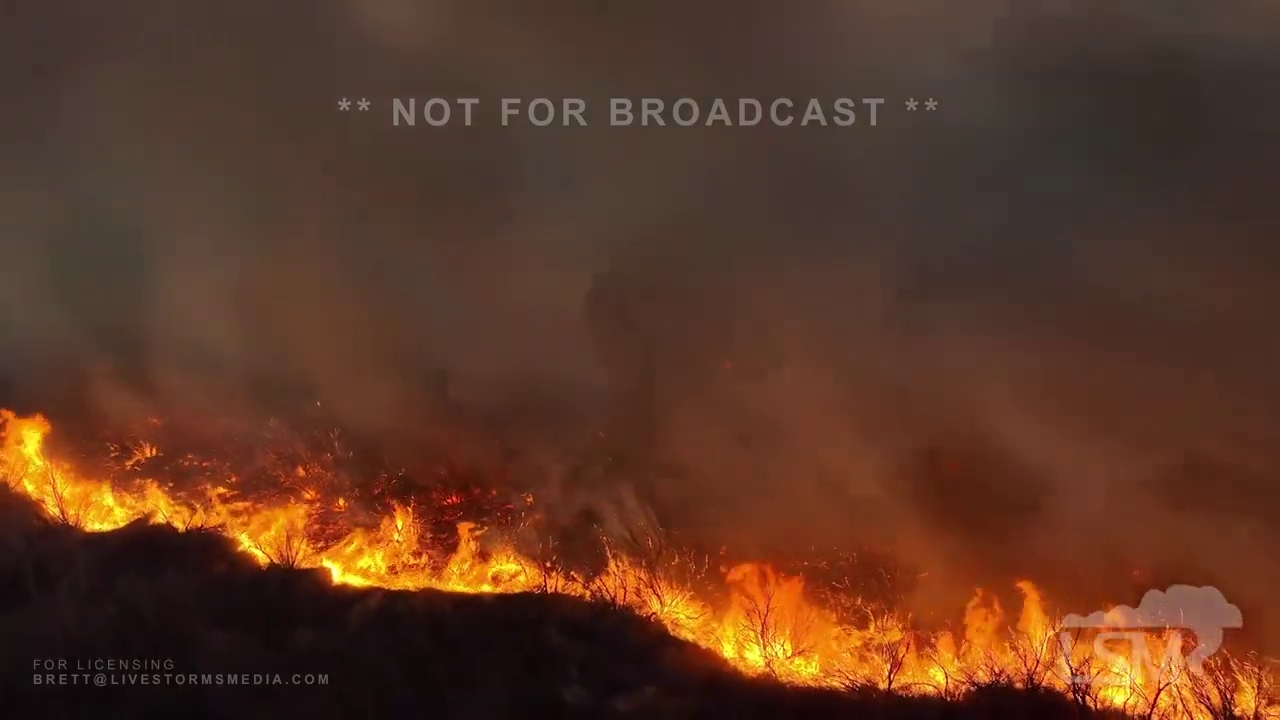forest_fire: (0, 410, 1279, 716), (153, 420, 158, 424), (649, 542, 652, 548), (534, 527, 535, 529), (268, 453, 269, 455)
